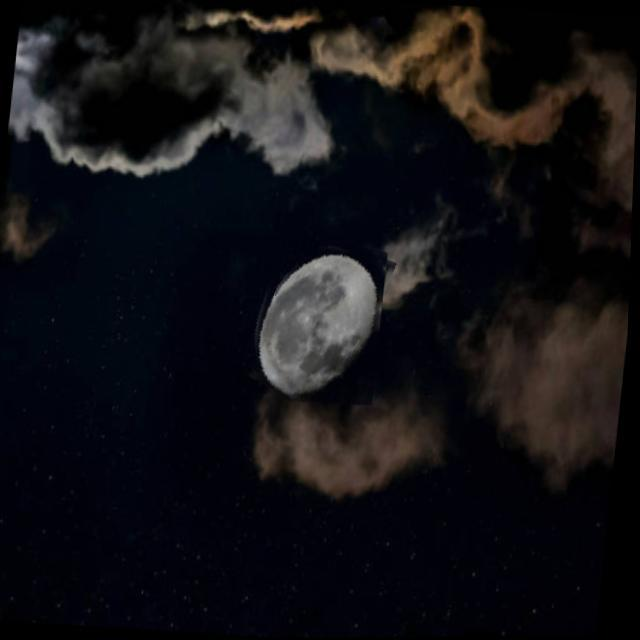moon: (244, 230, 391, 406)
